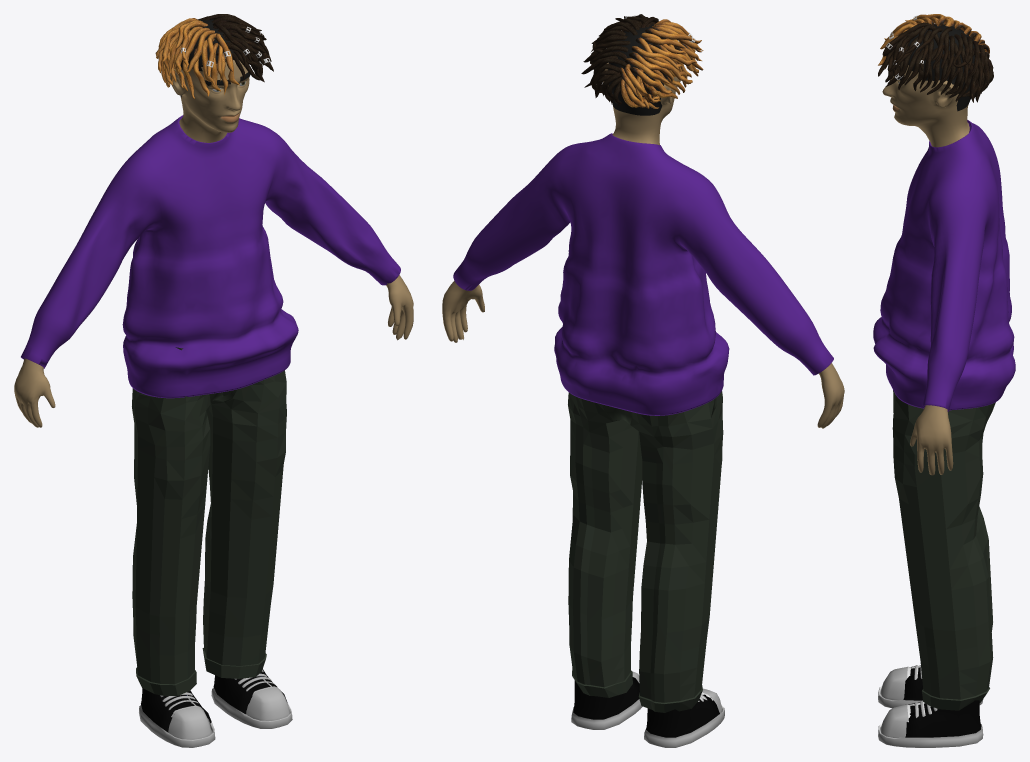
The model's file is modelo3.1.fbx.
The picture shows the model from 3 angles, left to right: view 1: azimuth 30°, elevation 25°; view 2: azimuth 150°, elevation 25°; view 3: azimuth 270°, elevation 25°; orthographic projection.
Parts seen in each view (by area): view 1: Plane, pants, male_base.002, shoes.002, Mesh_0017; view 2: Plane, pants, Mesh_0017, male_base.002, shoes.002; view 3: Plane, pants, Mesh_0017, male_base.002, shoes.002.
Boxes of the visible parts, bbox=[...] form: Plane: bbox=[21, 115, 400, 398]; pants: bbox=[132, 347, 286, 695]; male_base.002: bbox=[14, 19, 413, 427]; shoes.002: bbox=[139, 669, 292, 747]; Mesh_0017: bbox=[155, 14, 273, 98]; Plane: bbox=[453, 133, 833, 415]; pants: bbox=[568, 391, 723, 712]; Mesh_0017: bbox=[581, 14, 703, 108]; male_base.002: bbox=[442, 24, 844, 428]; shoes.002: bbox=[571, 671, 724, 747]; Plane: bbox=[873, 120, 1015, 411]; pants: bbox=[892, 390, 995, 710]; Mesh_0017: bbox=[878, 14, 993, 102]; male_base.002: bbox=[882, 24, 974, 475]; shoes.002: bbox=[878, 665, 983, 747].
Size of the model in its own units: 2203 by 3733 by 693.
13 materials, 1 textured.
